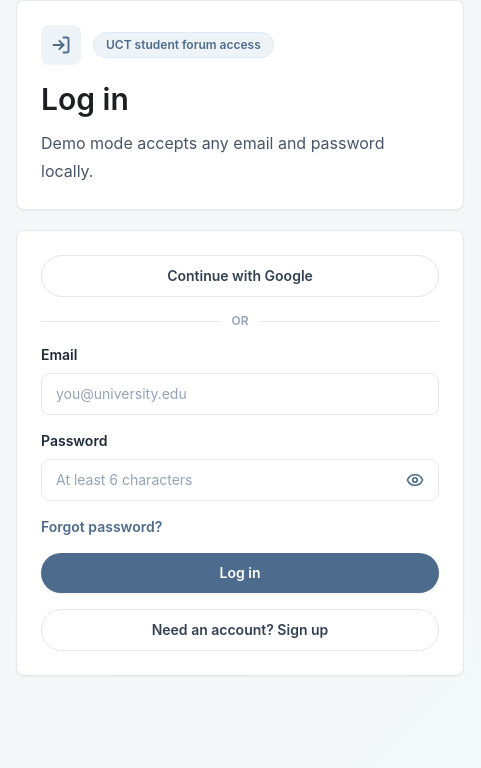
Test: AuthPage › shows a clearer login error for wrong credentials
Type "student@uct.ac.za" into the field labelled "Email".
click(240, 394); type("student@uct.ac.za")  # box [41,373,439,415]
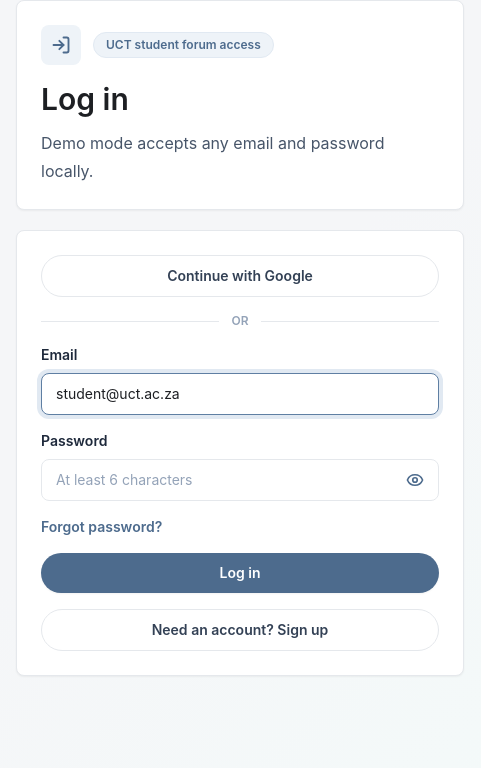
Type "wrong-password" into the password field labelled "Password".
click(240, 480); type("wrong-password")  # box [41,459,439,501]
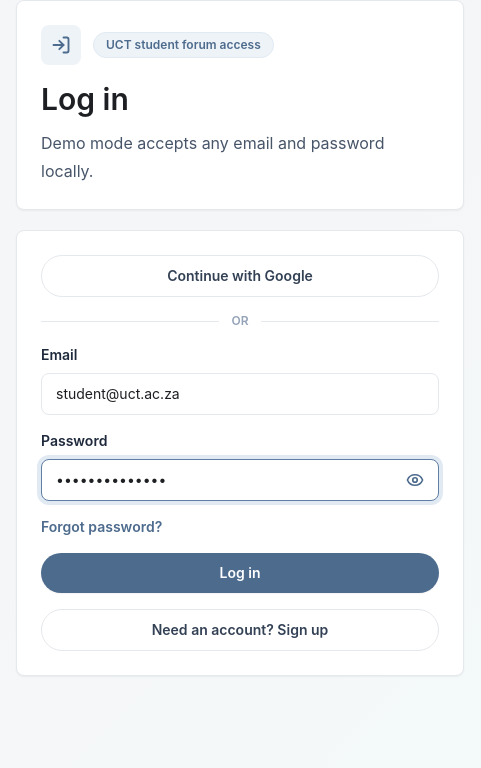
Click the button "Log in".
click(240, 573)  # box [41,553,439,593]
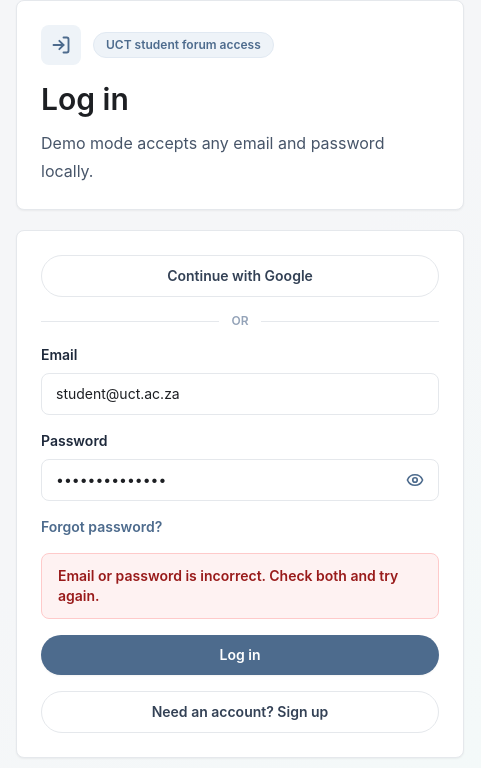
Result: the text "Email or password is incorrect. Check both and try again." is shown at [41,553,439,619]
